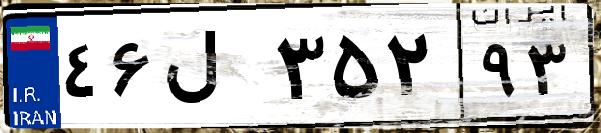2: (385, 28, 445, 110)
3: (270, 28, 330, 110), (525, 38, 570, 115)
4: (57, 26, 110, 100)
5: (330, 28, 385, 110)
6: (110, 28, 158, 98)
9: (475, 38, 525, 113)
ل: (158, 20, 270, 120)
